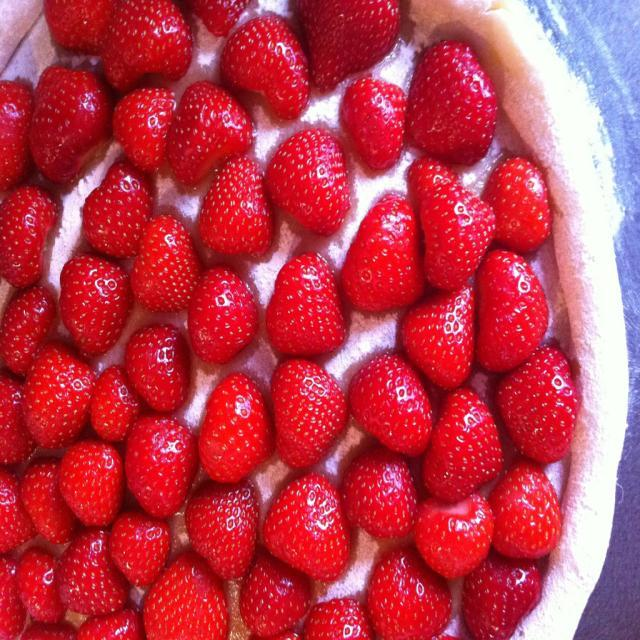Strawberry: (0, 1, 578, 640), (408, 43, 497, 162), (268, 248, 348, 360)
